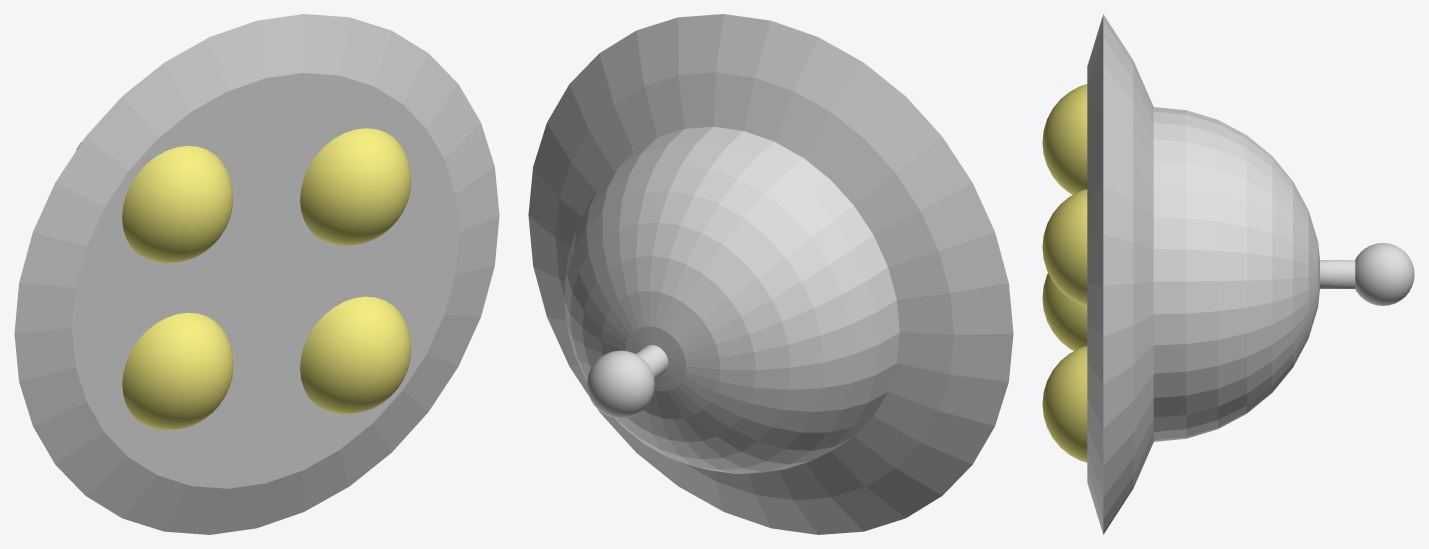
Rendered from UFO.fbx.
3 renders of one model, left to right at view 1: azimuth 30°, elevation 25°; view 2: azimuth 150°, elevation 25°; view 3: azimuth 270°, elevation 25°, orthographic. The views are drawn at different scales.
Visible parts, largest first — view 1: Sphere.001; view 2: Sphere.001; view 3: Sphere.001.
Boxes of the visible parts, x1,y1,x2,y2 form: Sphere.001: (14,14,499,534); Sphere.001: (528,14,1013,534); Sphere.001: (1042,14,1414,534).
Size of the model in its own units: 311 by 311 by 222.
